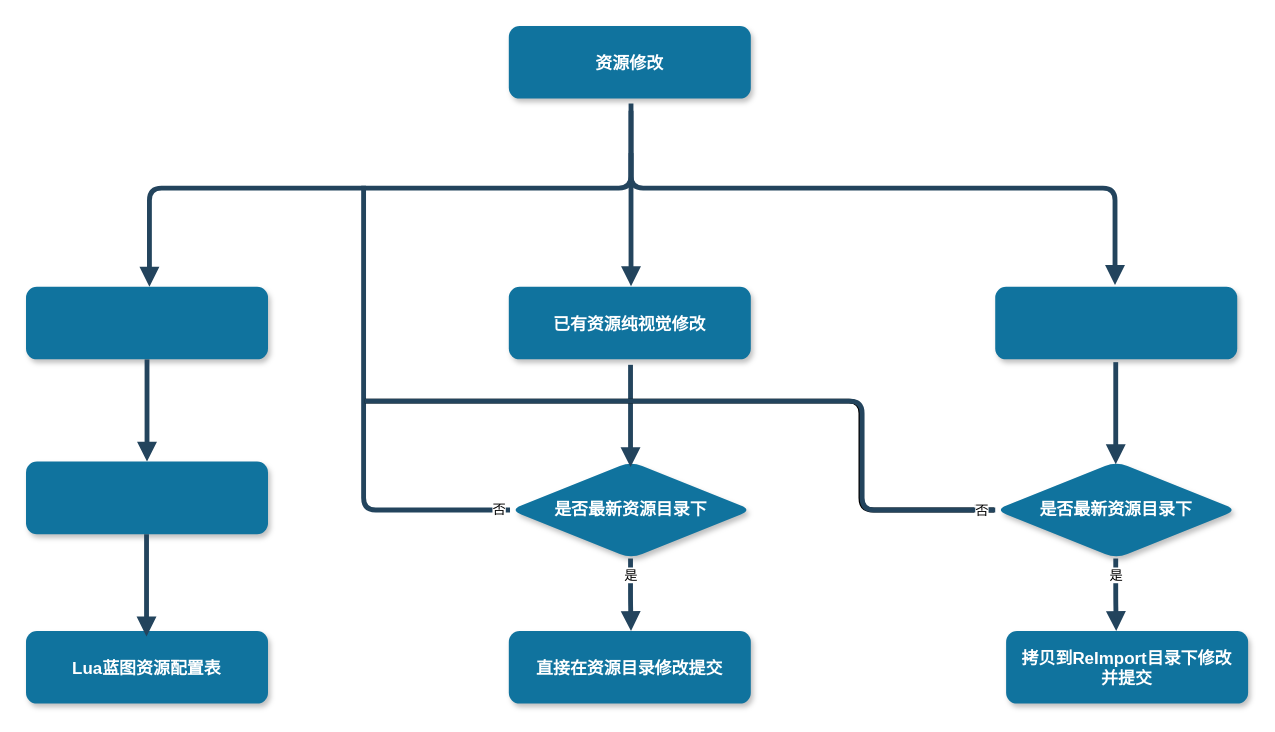
This 1275x732 diagram has some shape labels left out. The shapes that lost their labels are listed below. From the top down, each one's centre as x and y in pixels, then its label:
(148,324): 新资源增加
(1117,324): 已有资源结构性修改
(148,499): 重构资源规范
